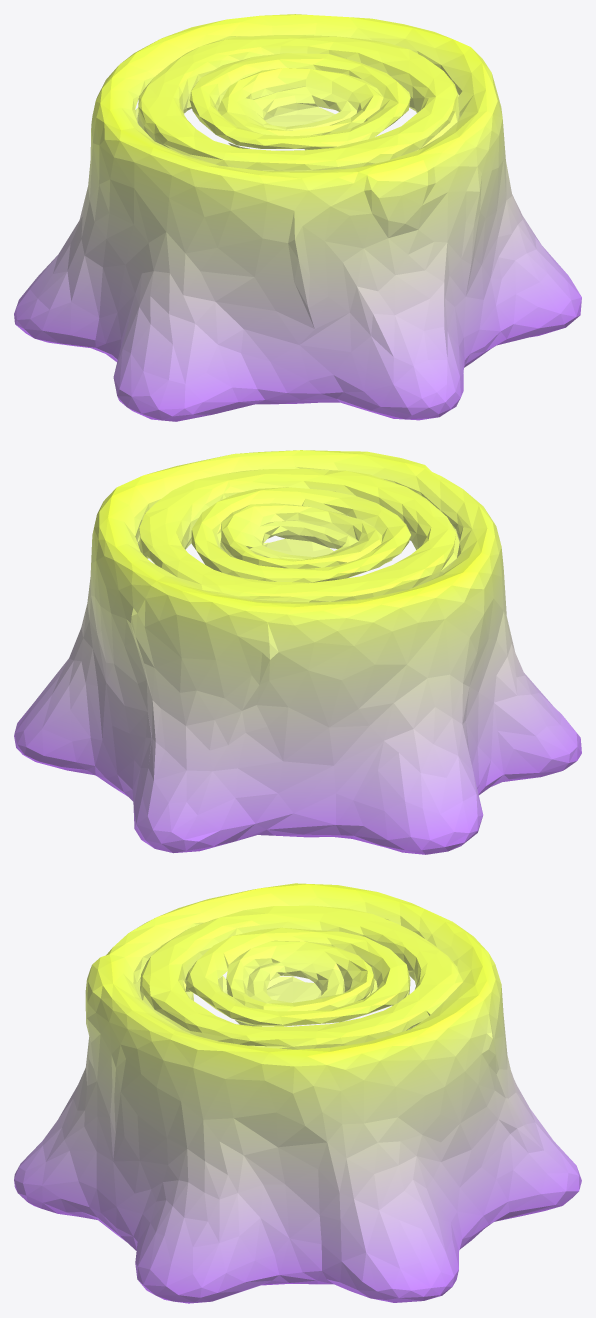
File: 108_cyb_laser_gradient_fish_scales_2891_2026_10_03_6f0562.glb
3 renders of one model, top to bottom at view 1: azimuth 30°, elevation 25°; view 2: azimuth 150°, elevation 25°; view 3: azimuth 270°, elevation 25°, orthographic.
Visible parts, largest first — view 1: geometry_0; view 2: geometry_0; view 3: geometry_0.
Part boxes in pixels (<box>): geometry_0: <box>14,14,581,421</box>; geometry_0: <box>14,450,581,854</box>; geometry_0: <box>14,883,581,1303</box>.
Bounding box in the file's own units: 0.9244 × 0.4584 × 0.997.
